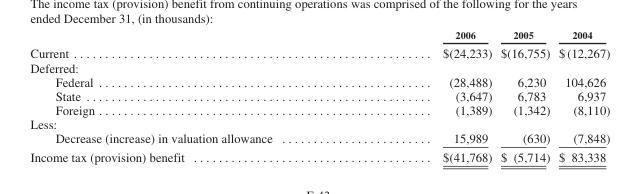table: (29, 28, 609, 163)
table column: (29, 28, 356, 163), (356, 28, 495, 163), (495, 28, 553, 163), (553, 28, 609, 163)
table column header: (29, 28, 609, 42)
table projected row header: (29, 60, 609, 74), (29, 116, 609, 130)
table row: (29, 42, 609, 60), (29, 146, 609, 163), (29, 130, 609, 146), (29, 28, 609, 42), (29, 60, 609, 74), (29, 74, 609, 88), (29, 88, 609, 102), (29, 102, 609, 116), (29, 116, 609, 130)
